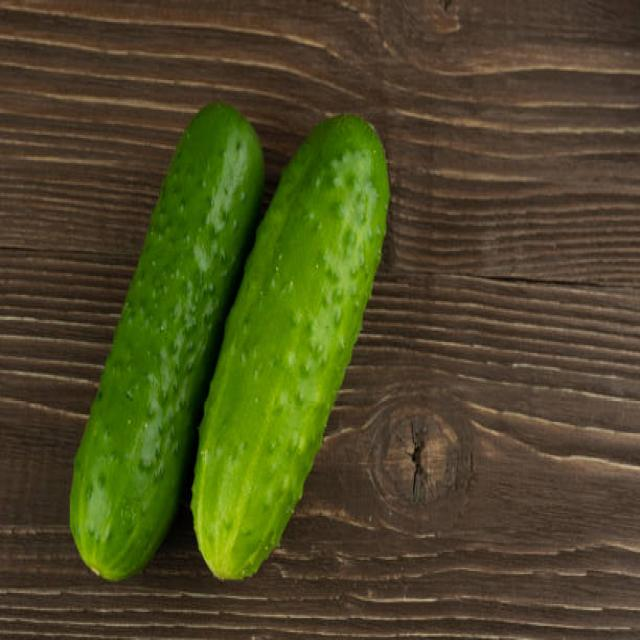cucumber: (70, 100, 391, 580)
